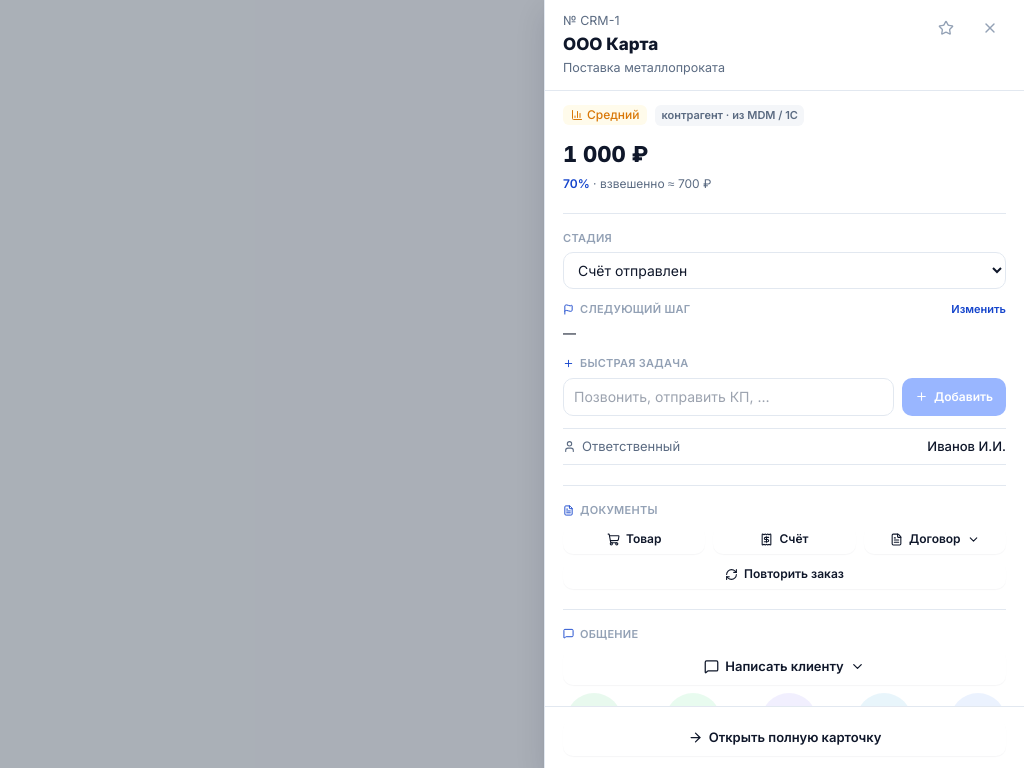
Test: DealDrawerPreview — слайс 7: варианты договора › клик «Договор» раскрывает секцию и грузит шаблоны один раз
Click the button "Договор" at (935, 539), box [864, 524, 1006, 554]
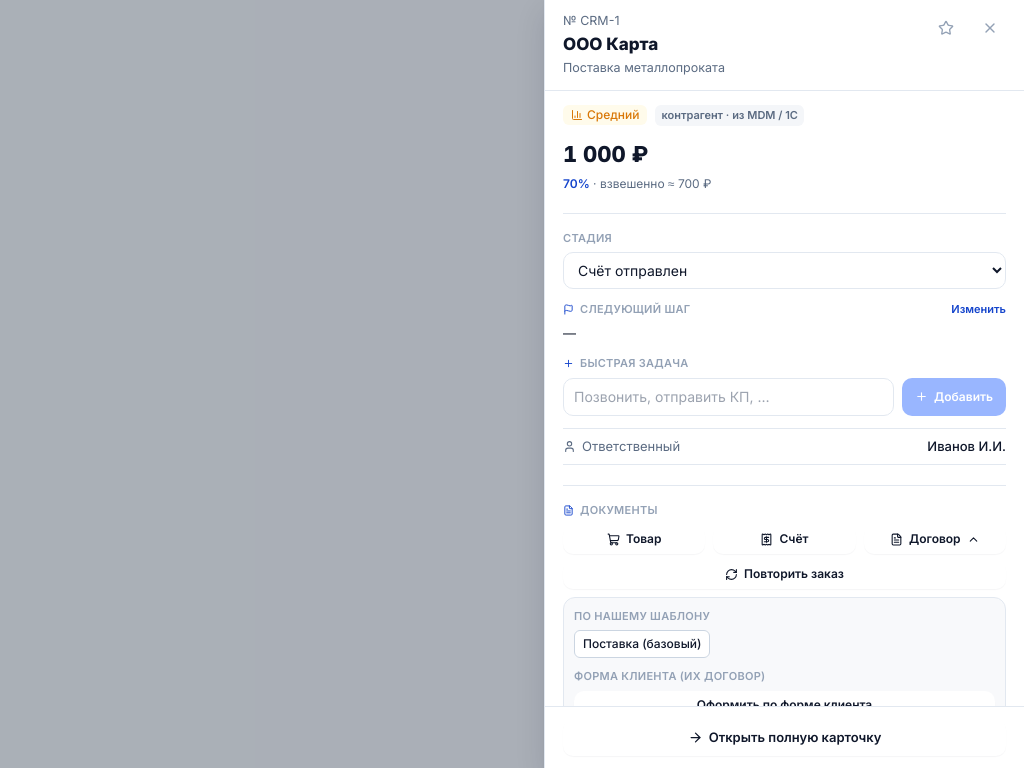
Check: the button "Поставка (базовый)" is shown, box [574, 630, 710, 658]
